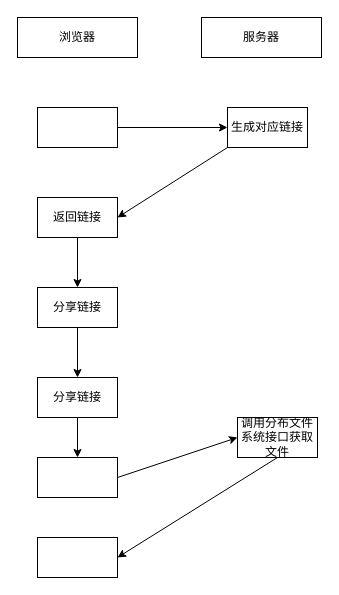
This 339x595 diagram has some shape labels left out. Here are the shapes that lost their labels. From the top down, the box of each, then its label:
(36, 106, 118, 148): 选择文件分享
(36, 456, 118, 498): 输入链接
(36, 536, 118, 578): 获取文件
